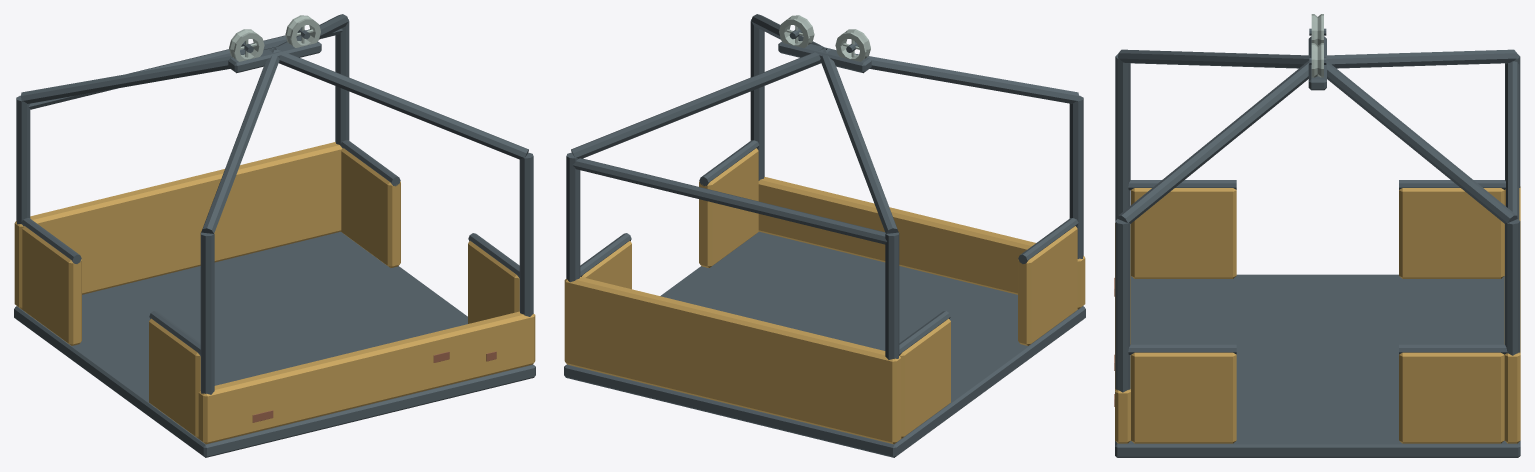
Rendered from gondola_cabin.glb.
3 renders of one model, left to right at view 1: azimuth 30°, elevation 25°; view 2: azimuth 150°, elevation 25°; view 3: azimuth 270°, elevation 25°, orthographic. The views are drawn at different scales.
Visible parts, largest first — view 1: Keep_Mesh, Occlude_Frame_Mesh; view 2: Keep_Mesh, Occlude_Frame_Mesh; view 3: Keep_Mesh, Occlude_Frame_Mesh.
Part boxes in pixels (left/top/right/bottom): Keep_Mesh: left=14, top=140, right=535, bottom=457; Occlude_Frame_Mesh: left=16, top=14, right=533, bottom=394; Keep_Mesh: left=564, top=140, right=1085, bottom=457; Occlude_Frame_Mesh: left=566, top=14, right=1083, bottom=359; Keep_Mesh: left=1114, top=180, right=1520, bottom=457; Occlude_Frame_Mesh: left=1115, top=14, right=1520, bottom=392.
Size of the model in its own units: 4 by 3.73 by 4.01.
